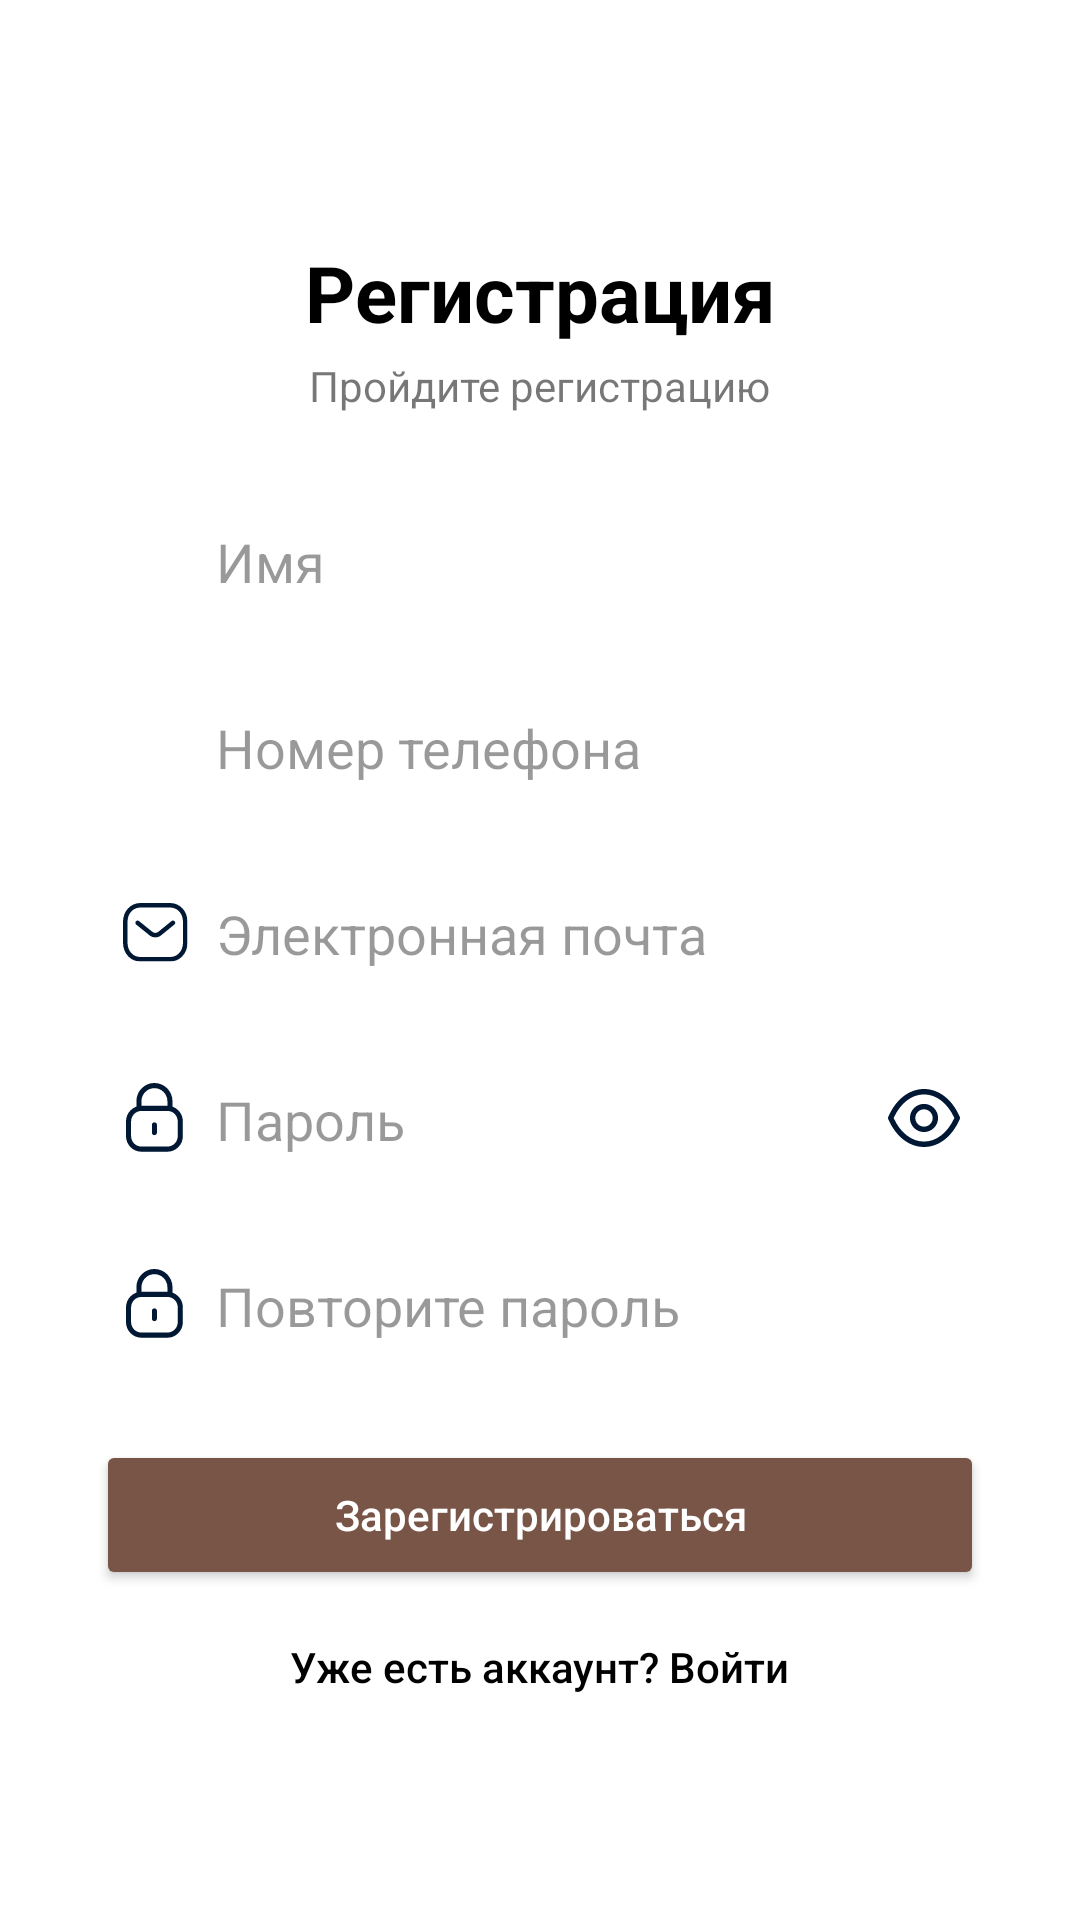

Icon click points for this 1080 × 1920 phone screenshot, format [x,y]:
email: [155,932]
eye: [924,1118]
lock: [154,1117], [154,1303]
